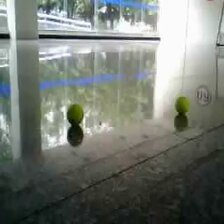tennis: (67, 104, 84, 125), (175, 96, 190, 113)
